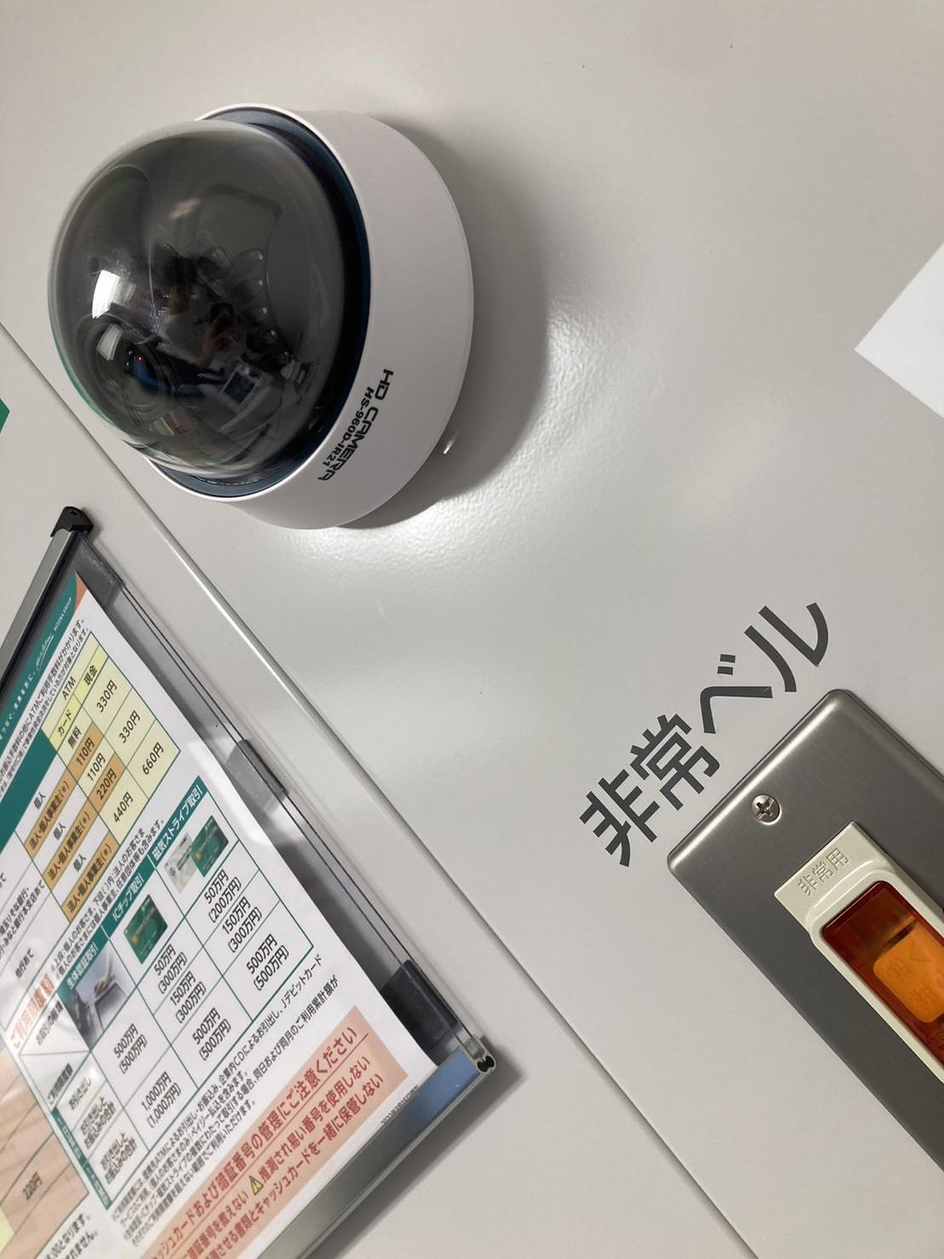maru: (55, 89, 472, 530)
